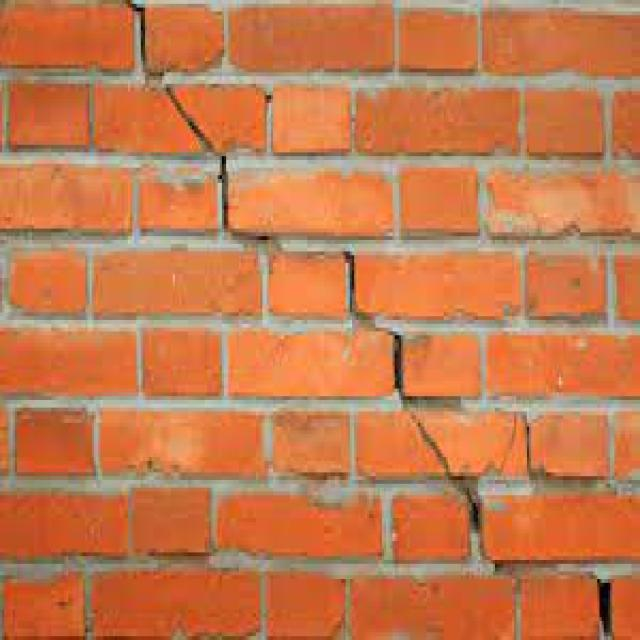Crack: (126, 0, 612, 636)
